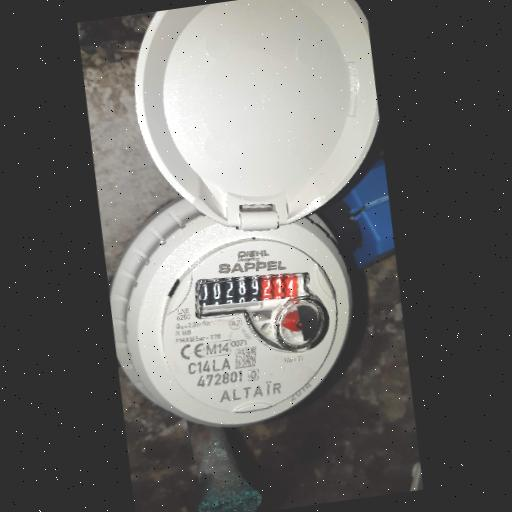0: (196, 281, 213, 307), (208, 280, 225, 306)
1: (282, 274, 300, 299), (271, 275, 287, 300)
2: (258, 277, 276, 302), (221, 278, 237, 304)
8: (233, 277, 251, 304)
9: (247, 277, 263, 303)
border_water_meter_number: (192, 266, 314, 323)
